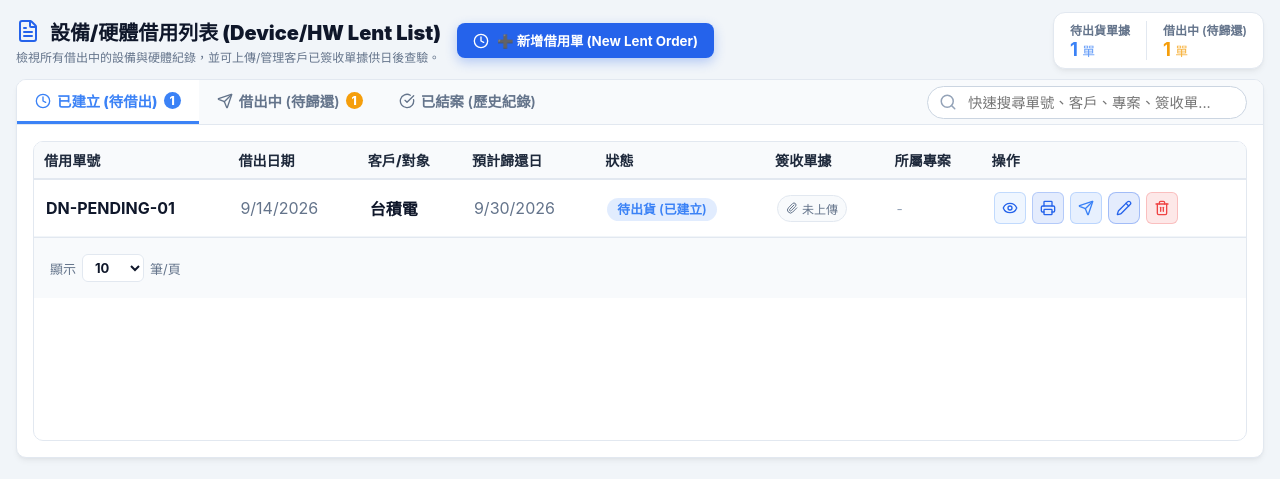
Test: 借用單列表：分頁切換 › 切換分頁不會重複發出查詢
Expected: the text "DN-PENDING-01" is shown, top-left (34, 179), bottom-right (228, 236)
Click the button "借出中 (待歸還) 1".
click(290, 102)  # box top-left (199, 80), bottom-right (381, 124)
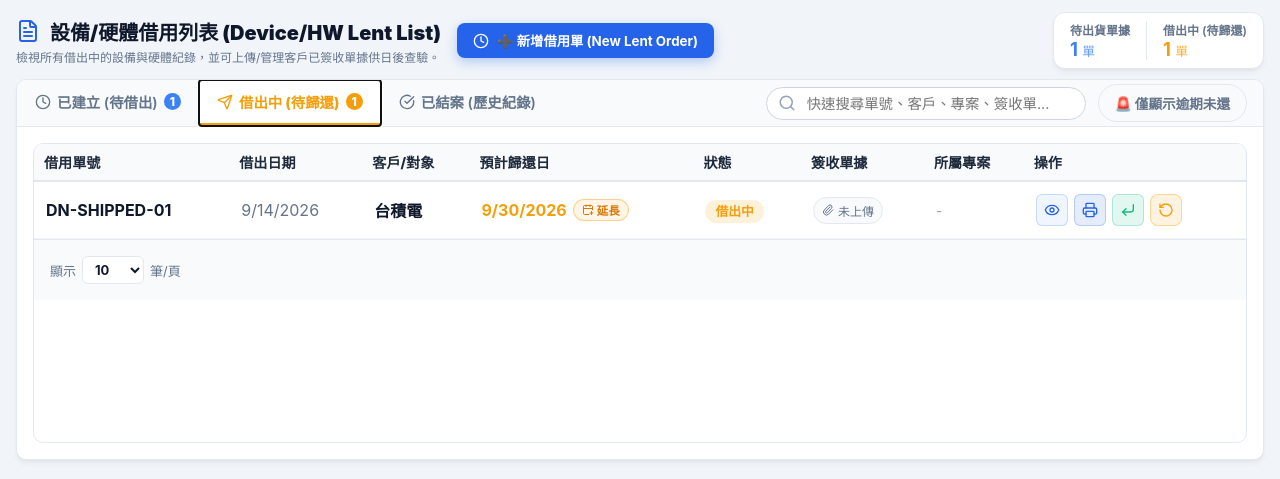
Result: the text "DN-SHIPPED-01" is shown at top-left (34, 181), bottom-right (229, 238)
